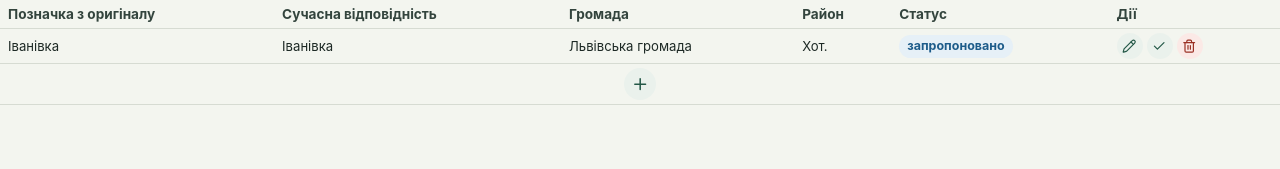
Scenario: SettlementsTable › edits the район inline
Click the button named "Редагувати" at (1130, 46), box [1117,33,1143,59]
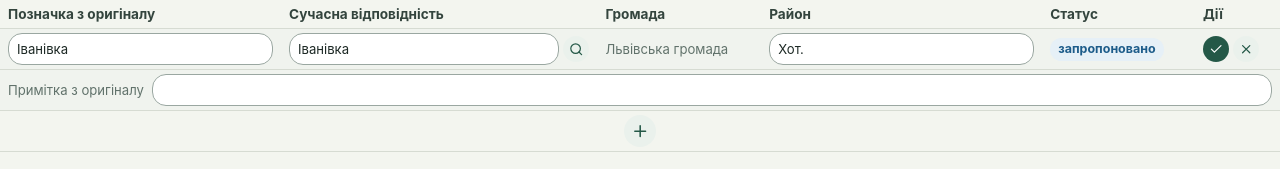
Result: the field named "Скорочення району" holds "Хот." at [769,33,1034,65]
